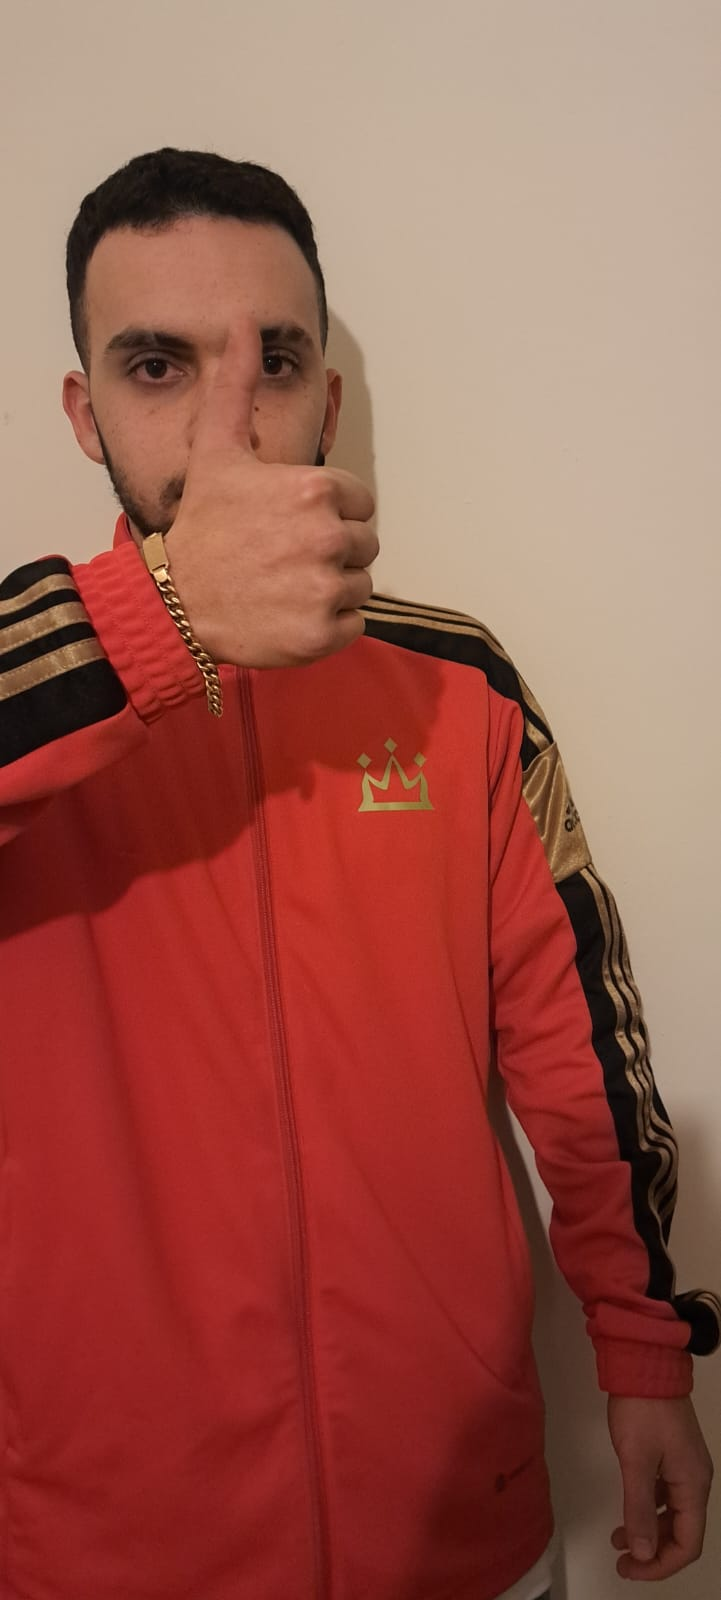okay: (183, 315, 384, 685)
